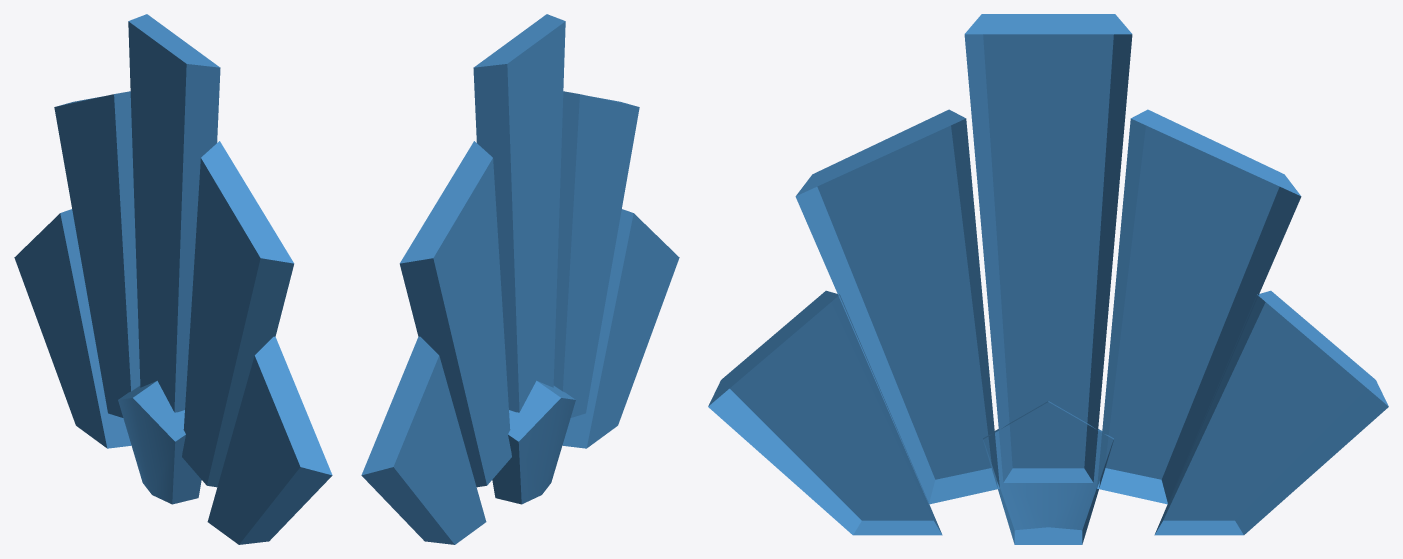
Rendered from Deco_PlatFlower.fbx.
The picture shows the model from 3 angles, left to right: view 1: azimuth 30°, elevation 25°; view 2: azimuth 150°, elevation 25°; view 3: azimuth 270°, elevation 25°; orthographic projection. The views are drawn at different scales.
Parts seen in each view (by area): view 1: Deco_PlatFlower; view 2: Deco_PlatFlower; view 3: Deco_PlatFlower.
Boxes of the visible parts, bbox=[...] form: Deco_PlatFlower: bbox=[14, 14, 332, 544]; Deco_PlatFlower: bbox=[361, 14, 679, 544]; Deco_PlatFlower: bbox=[708, 14, 1388, 544].
Size of the model in its own units: 36.85 by 311 by 372.
